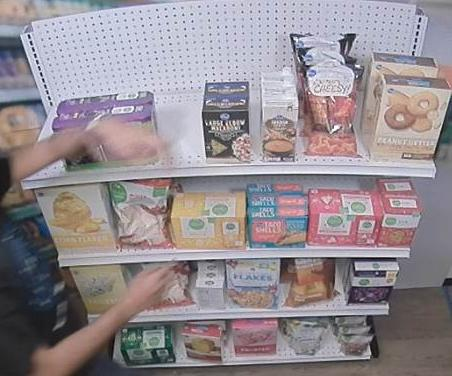stockout: (156, 87, 205, 166), (25, 107, 62, 175)
